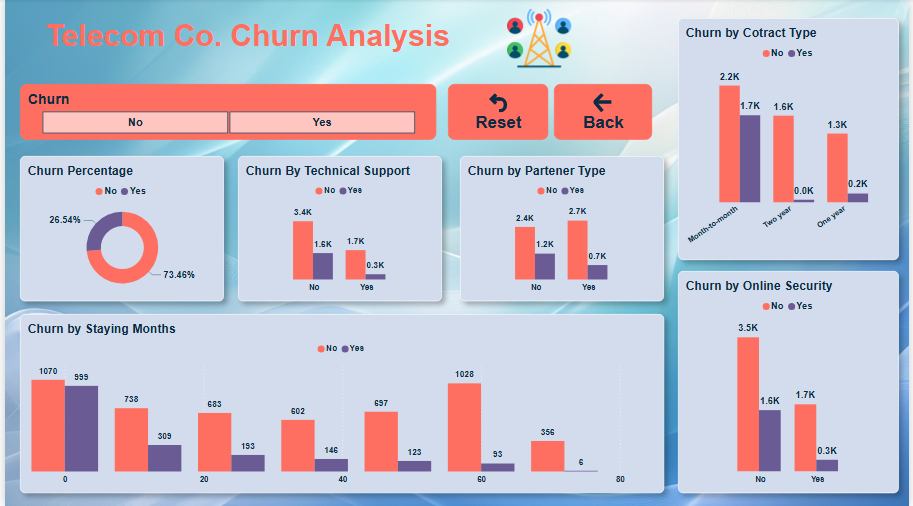

The dashboard page shown, as its layout file describes it:
{"tool":"powerbi","page":{"name":"Page 2","canvas":[1280,720],"ordinal":1},"visuals":[{"type":"textbox","box":[21.8,26.9,618.2,57.1],"z":0},{"type":"image","box":[666.9,0,179.7,110.9],"z":1000},{"type":"slicer","title":"Churn","fields":{"Values":["Cleaned_Customer_Churn_Data.Churn"]},"box":[21.3,120.5,589.6,79.4],"z":3000},{"type":"actionButton","box":[627.9,120.5,141.7,79.4],"z":4000},{"type":"actionButton","box":[778.1,120.5,138.9,79.4],"z":5000},{"type":"clusteredColumnChart","title":"Churn by Cotract Type","fields":{"Category":["Cleaned_Customer_Churn_Data.Contract"],"Series":["Cleaned_Customer_Churn_Data.Churn"],"Y":["CountNonNull(Cleaned_Customer_Churn_Data.customerID)"]},"box":[953.9,26.9,313.2,343],"z":6000},{"type":"clusteredColumnChart","title":"Churn by Staying Months","fields":{"Category":["Cleaned_Customer_Churn_Data.tenure (bins)"],"Series":["Cleaned_Customer_Churn_Data.Churn"],"Y":["CountNonNull(Cleaned_Customer_Churn_Data.customerID)"]},"box":[21.3,446.5,912.8,253.7],"z":7000},{"type":"clusteredColumnChart","title":"Churn by Partener Type","fields":{"Category":["Cleaned_Customer_Churn_Data.Partner"],"Series":["Cleaned_Customer_Churn_Data.Churn"],"Y":["CountNonNull(Cleaned_Customer_Churn_Data.OnlineBackup)"]},"box":[644.9,222.5,289.1,205.5],"z":8000},{"type":"clusteredColumnChart","title":"Churn by Online Security","fields":{"Category":["Cleaned_Customer_Churn_Data.OnlineSecurity"],"Series":["Cleaned_Customer_Churn_Data.Churn"],"Y":["CountNonNull(Cleaned_Customer_Churn_Data.customerID)"]},"box":[953.9,385.5,313.2,314.6],"z":9000},{"type":"clusteredColumnChart","title":"Churn By Technical Support","fields":{"Category":["Cleaned_Customer_Churn_Data.TechSupport"],"Series":["Cleaned_Customer_Churn_Data.Churn"],"Y":["CountNonNull(Cleaned_Customer_Churn_Data.customerID)"]},"box":[330.2,222.5,289.1,205.5],"z":11000},{"type":"donutChart","title":"Churn Percentage","fields":{"Series":["Cleaned_Customer_Churn_Data.Churn"],"Y":["CountNonNull(Cleaned_Customer_Churn_Data.customerID)"]},"box":[21.3,222.5,289.1,205.5],"z":12000}]}

Visuals, with their boxes in screenshot pixels (x1, y1, x2, y2), scaled from the page's 1280x720 canvas onto the 913x506 screenshot:
textbox: {"left": 16, "top": 19, "right": 456, "bottom": 59}
image: {"left": 476, "top": 0, "right": 604, "bottom": 78}
"Churn" slicer: {"left": 15, "top": 85, "right": 436, "bottom": 140}
actionButton: {"left": 448, "top": 85, "right": 549, "bottom": 140}
actionButton: {"left": 555, "top": 85, "right": 654, "bottom": 140}
"Churn by Cotract Type" clusteredColumnChart: {"left": 680, "top": 19, "right": 904, "bottom": 260}
"Churn by Staying Months" clusteredColumnChart: {"left": 15, "top": 314, "right": 666, "bottom": 492}
"Churn by Partener Type" clusteredColumnChart: {"left": 460, "top": 156, "right": 666, "bottom": 301}
"Churn by Online Security" clusteredColumnChart: {"left": 680, "top": 271, "right": 904, "bottom": 492}
"Churn By Technical Support" clusteredColumnChart: {"left": 236, "top": 156, "right": 442, "bottom": 301}
"Churn Percentage" donutChart: {"left": 15, "top": 156, "right": 221, "bottom": 301}
